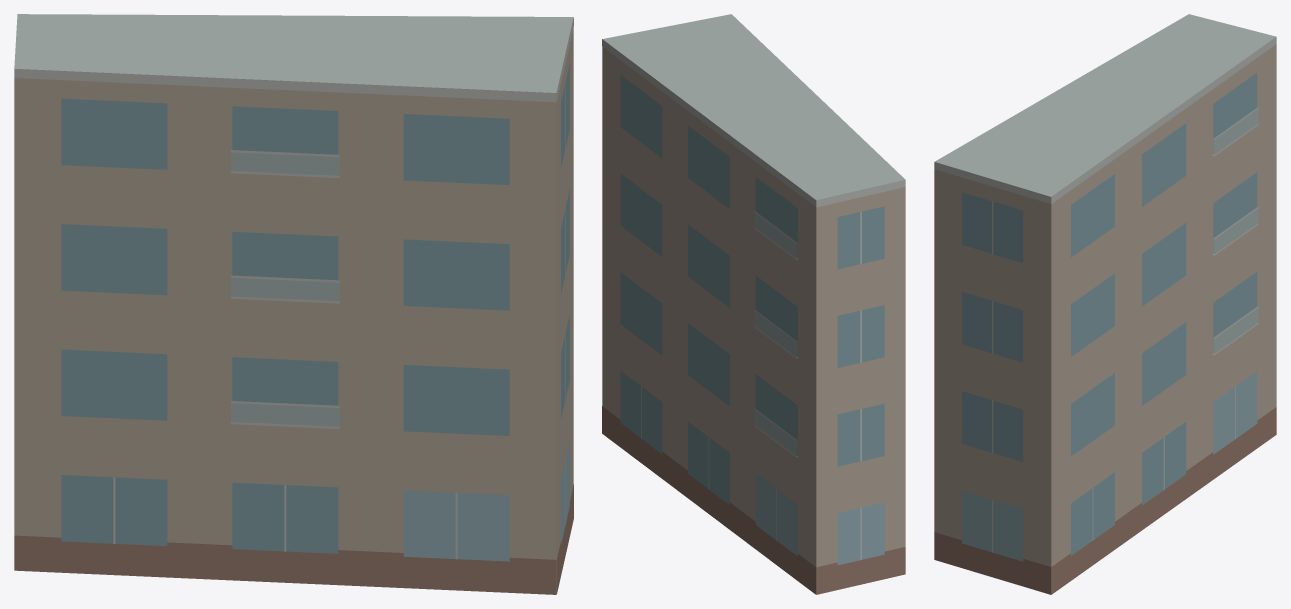
The model's file is survey-upis-32471870.glb.
3 views of the same model, side by side, from view 1: azimuth 30°, elevation 25°; view 2: azimuth 150°, elevation 25°; view 3: azimuth 270°, elevation 25° (orthographic). The views are drawn at different scales.
Visible parts, largest first — view 1: survey-upis-32471870.tmp; view 2: survey-upis-32471870.tmp; view 3: survey-upis-32471870.tmp.
Part boxes in pixels (x1,y1,x2,y2): survey-upis-32471870.tmp: (14, 14, 573, 594); survey-upis-32471870.tmp: (602, 14, 905, 594); survey-upis-32471870.tmp: (934, 14, 1276, 594).
Bounding box in the file's own units: 13.12 × 13.3 × 10.37.
